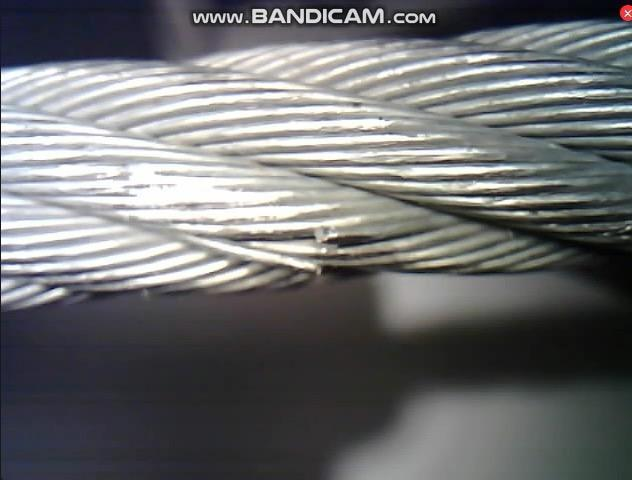break: (294, 218, 338, 280)
